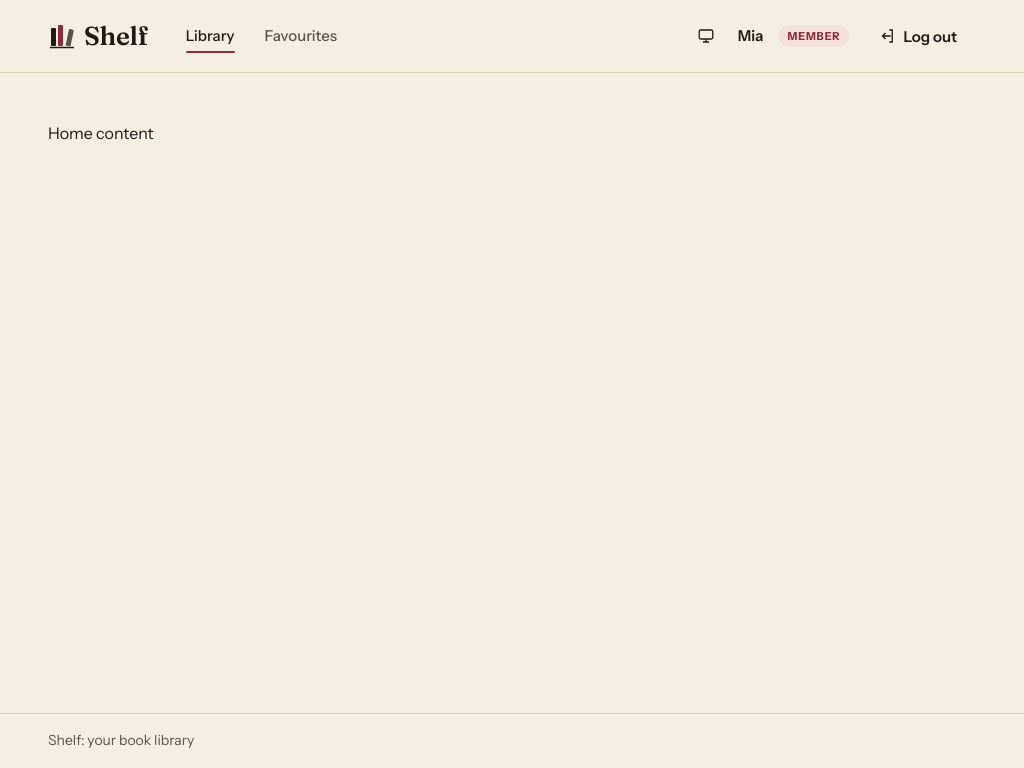
it: Layout › shows name, role, favourites and logout for a member, but no Add book
The width and height of the screenshot is (1024, 768).
Expected: the text "Mia" is shown, [738,24,763,48]
Expected: the text "member" is shown, [779,25,848,47]
Click the button "Log out".
click(917, 36)  # box [859,14,976,58]
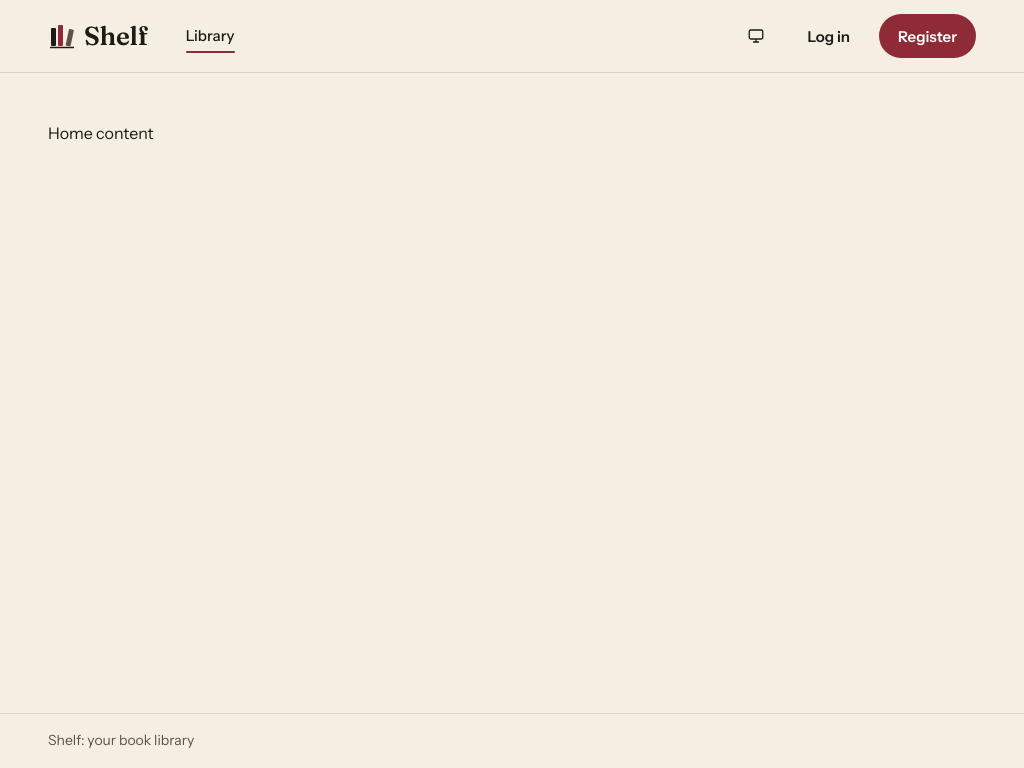
Result: the link "Log in" is shown at [808,26,850,46]
